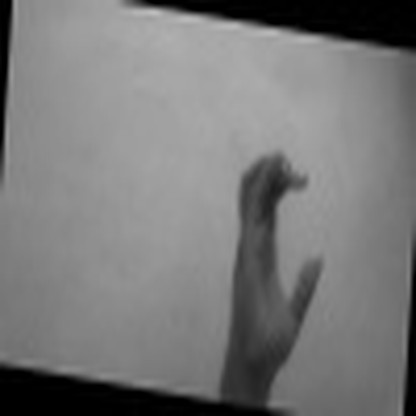c: (225, 136, 328, 362)
